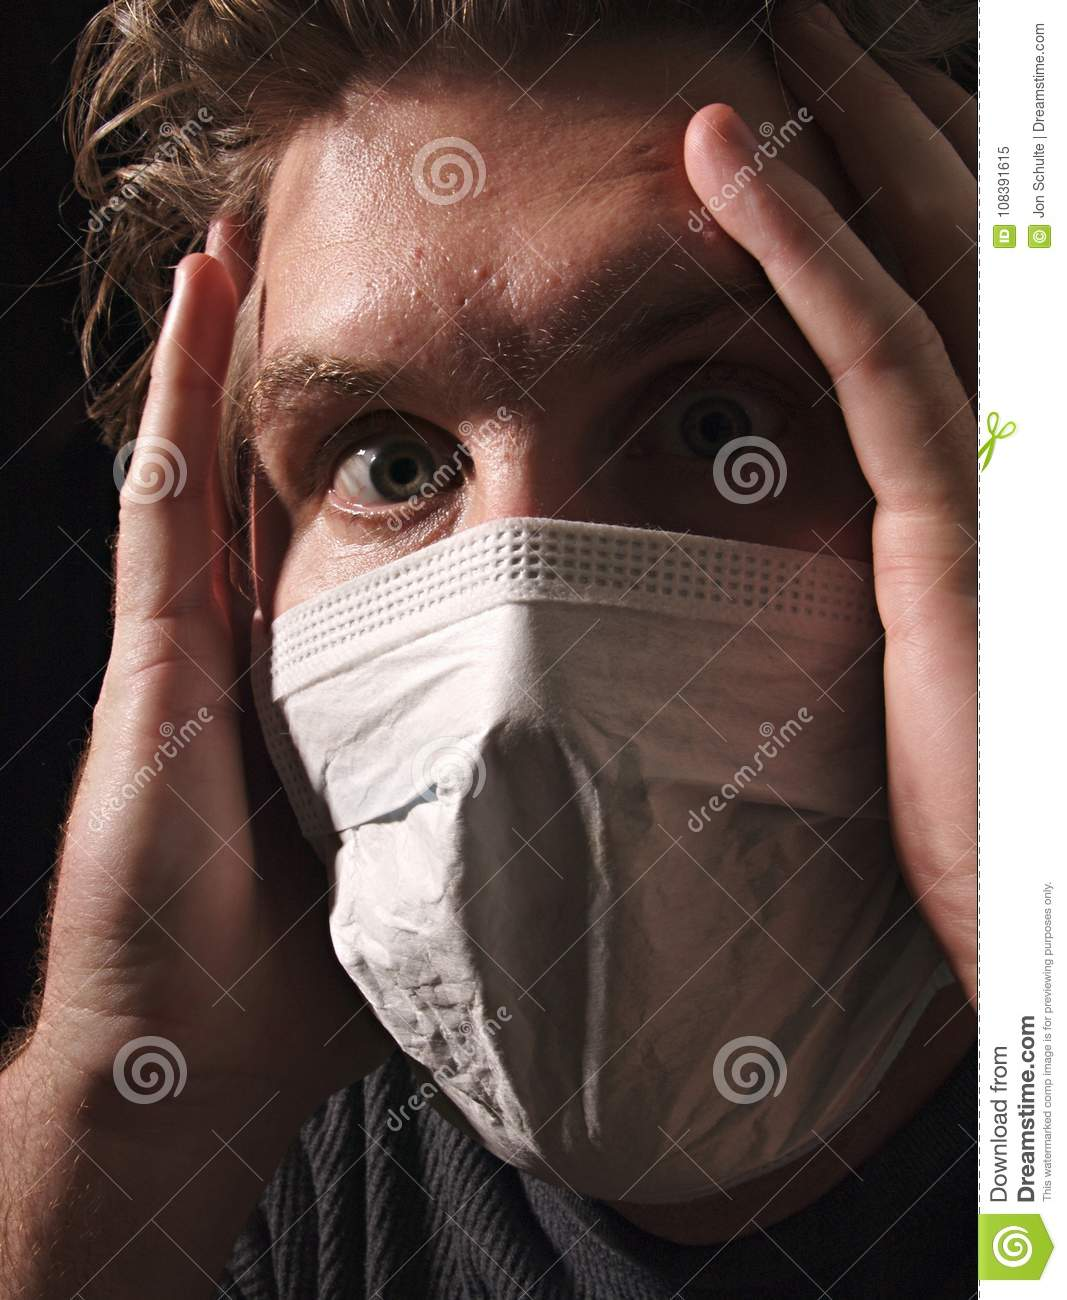mask: (240, 525, 949, 1207)
